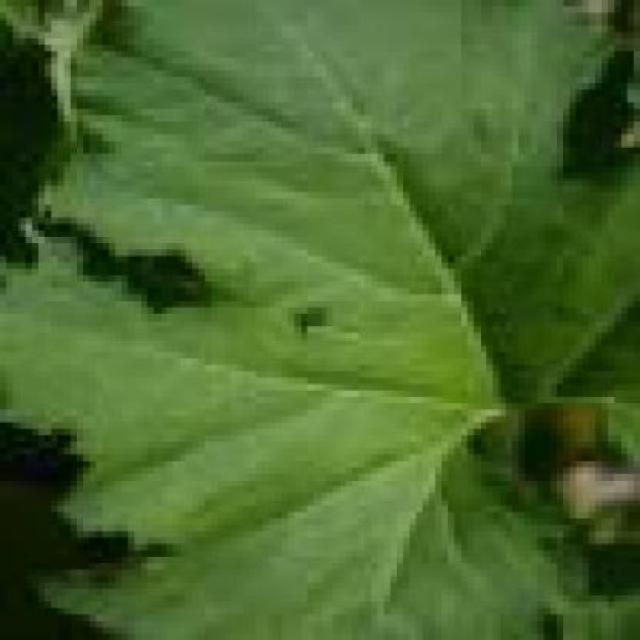Tomato leaf bacterial spot: (1, 13, 635, 404)
